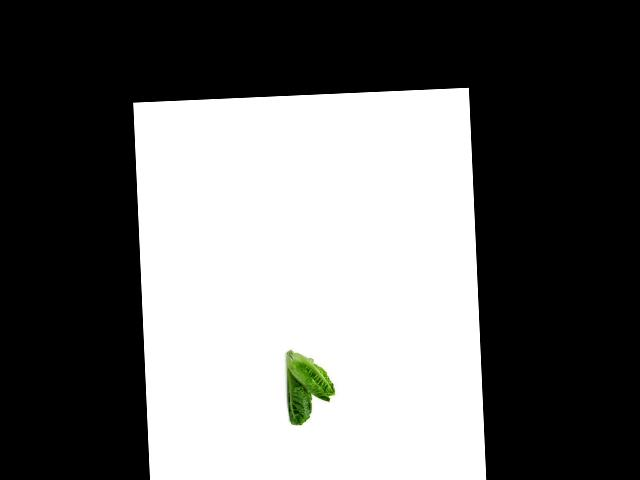lettuce: (281, 365, 314, 430)
